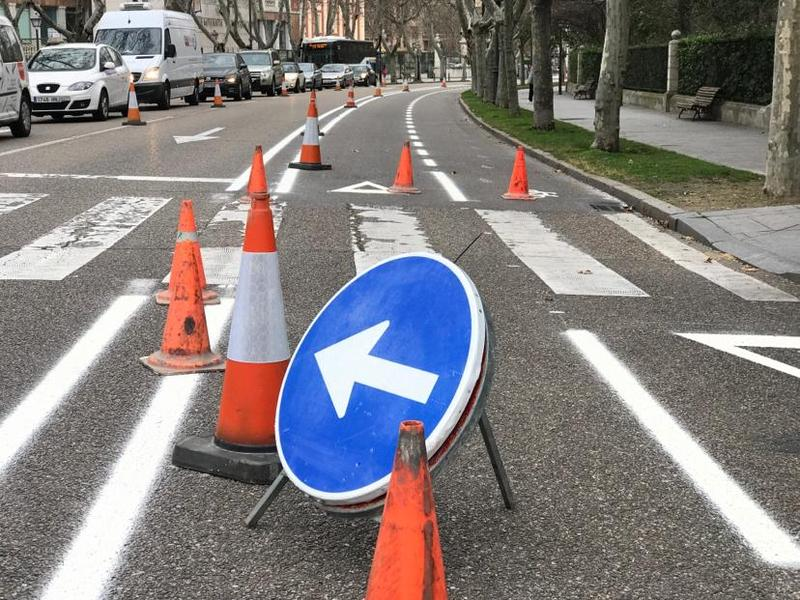Cone1: (135, 241, 226, 376), (499, 146, 538, 200), (386, 139, 422, 195)
